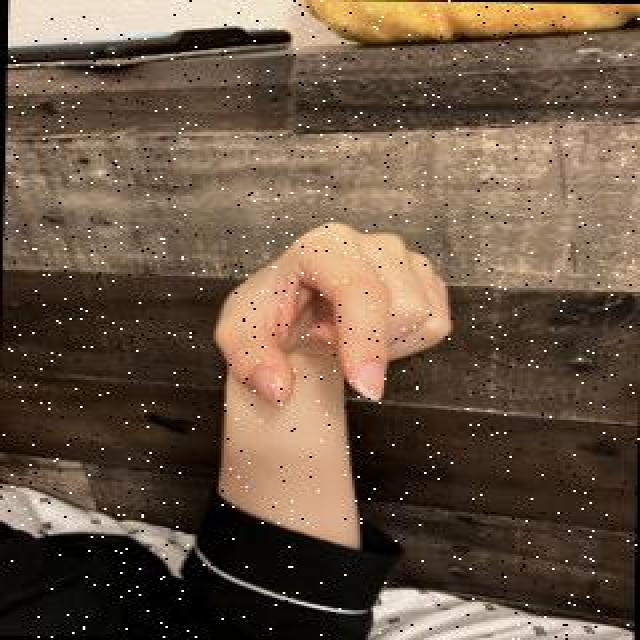Q: (201, 215, 460, 417)
